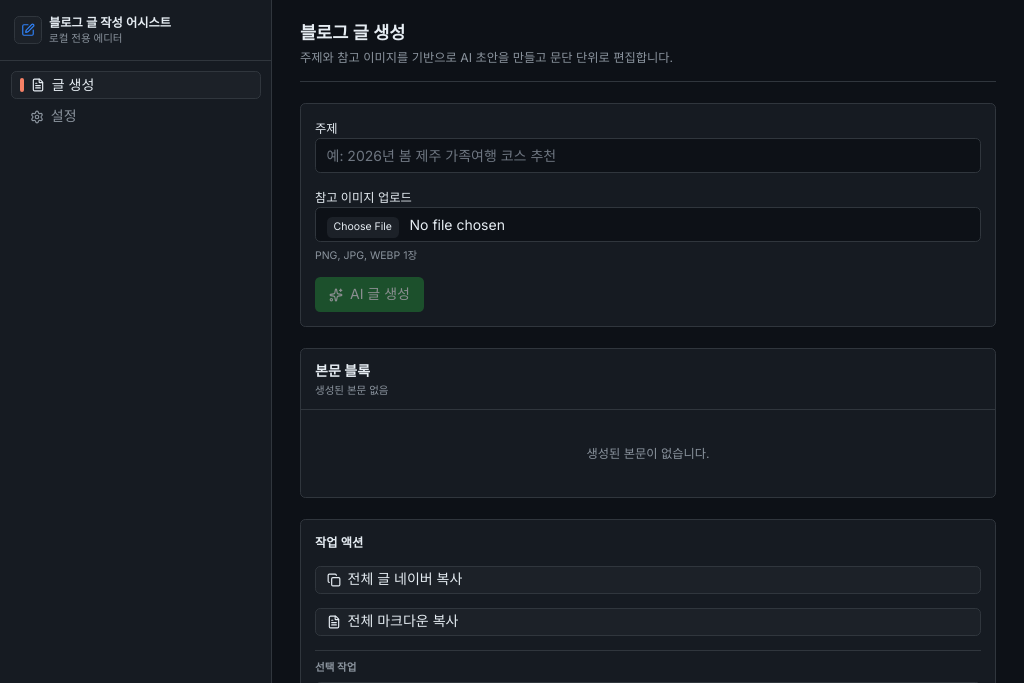
Test case: App clipboard integration › copies full article to naver html clipboard
Type "제주 2박 3일 여행 코스" into the field labelled "주제" at (648, 155), box [315,138,981,173]
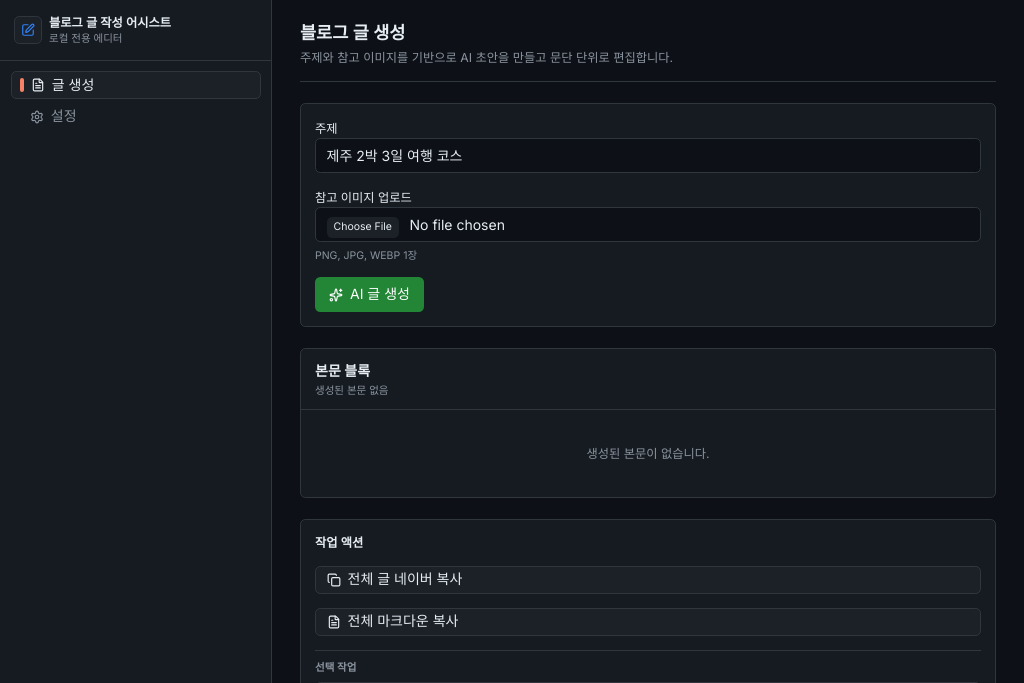
Click the button "AI 글 생성" at (369, 295), box [315,277,424,312]
(page scrolled)
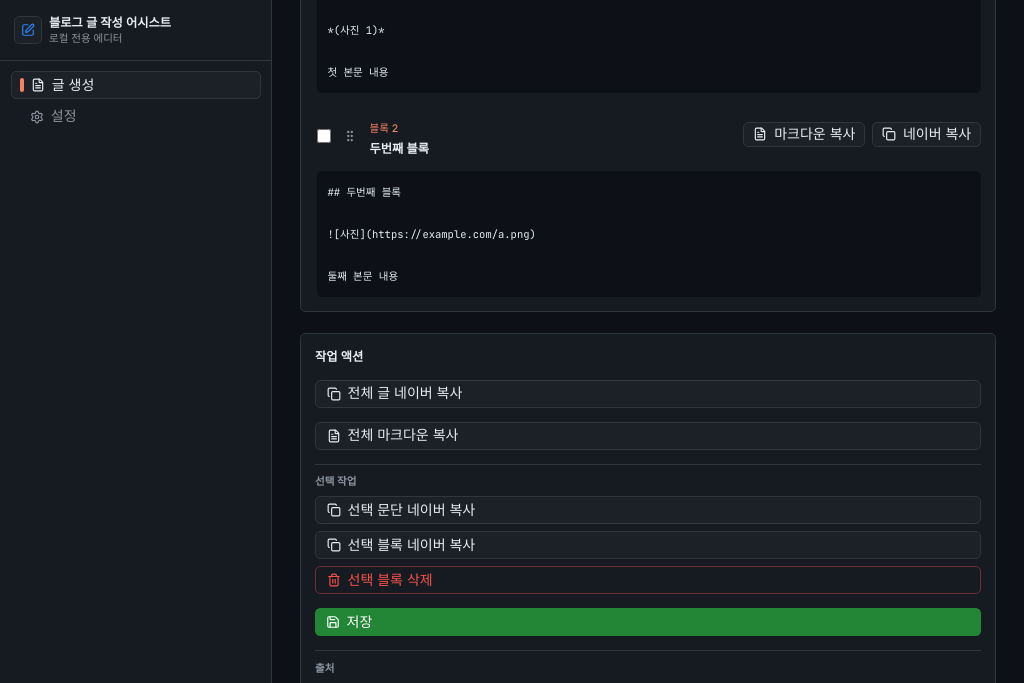
Click the button "전체 글 네이버 복사" at (405, 393), box [315,380,981,408]
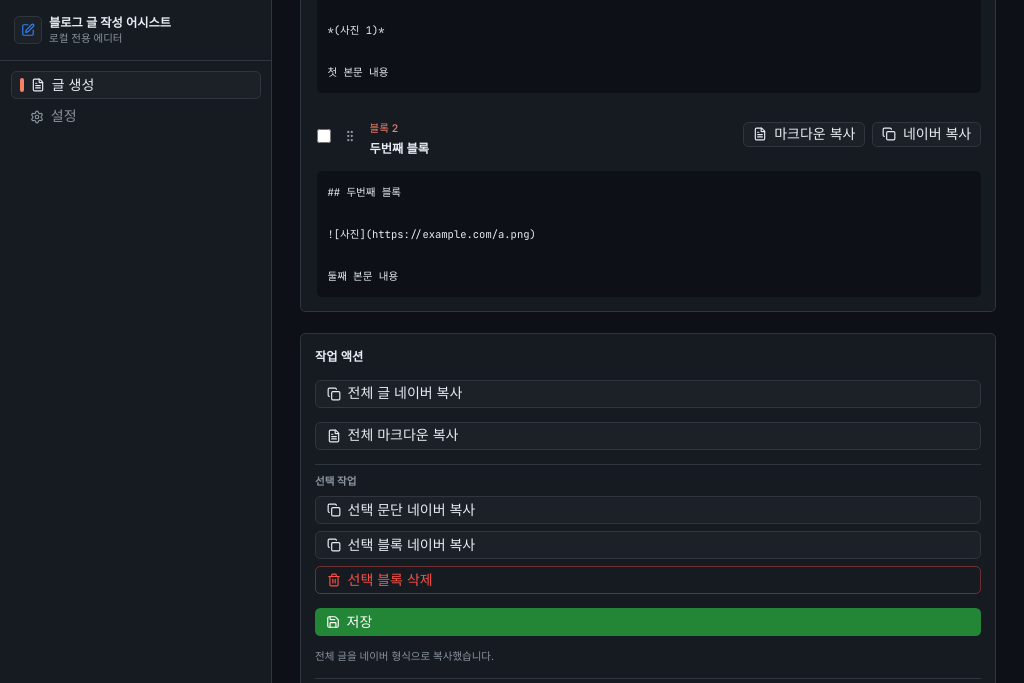
Check: the text "전체 글을 네이버 형식으로 복사했습니다." is shown, box [315,650,494,663]
